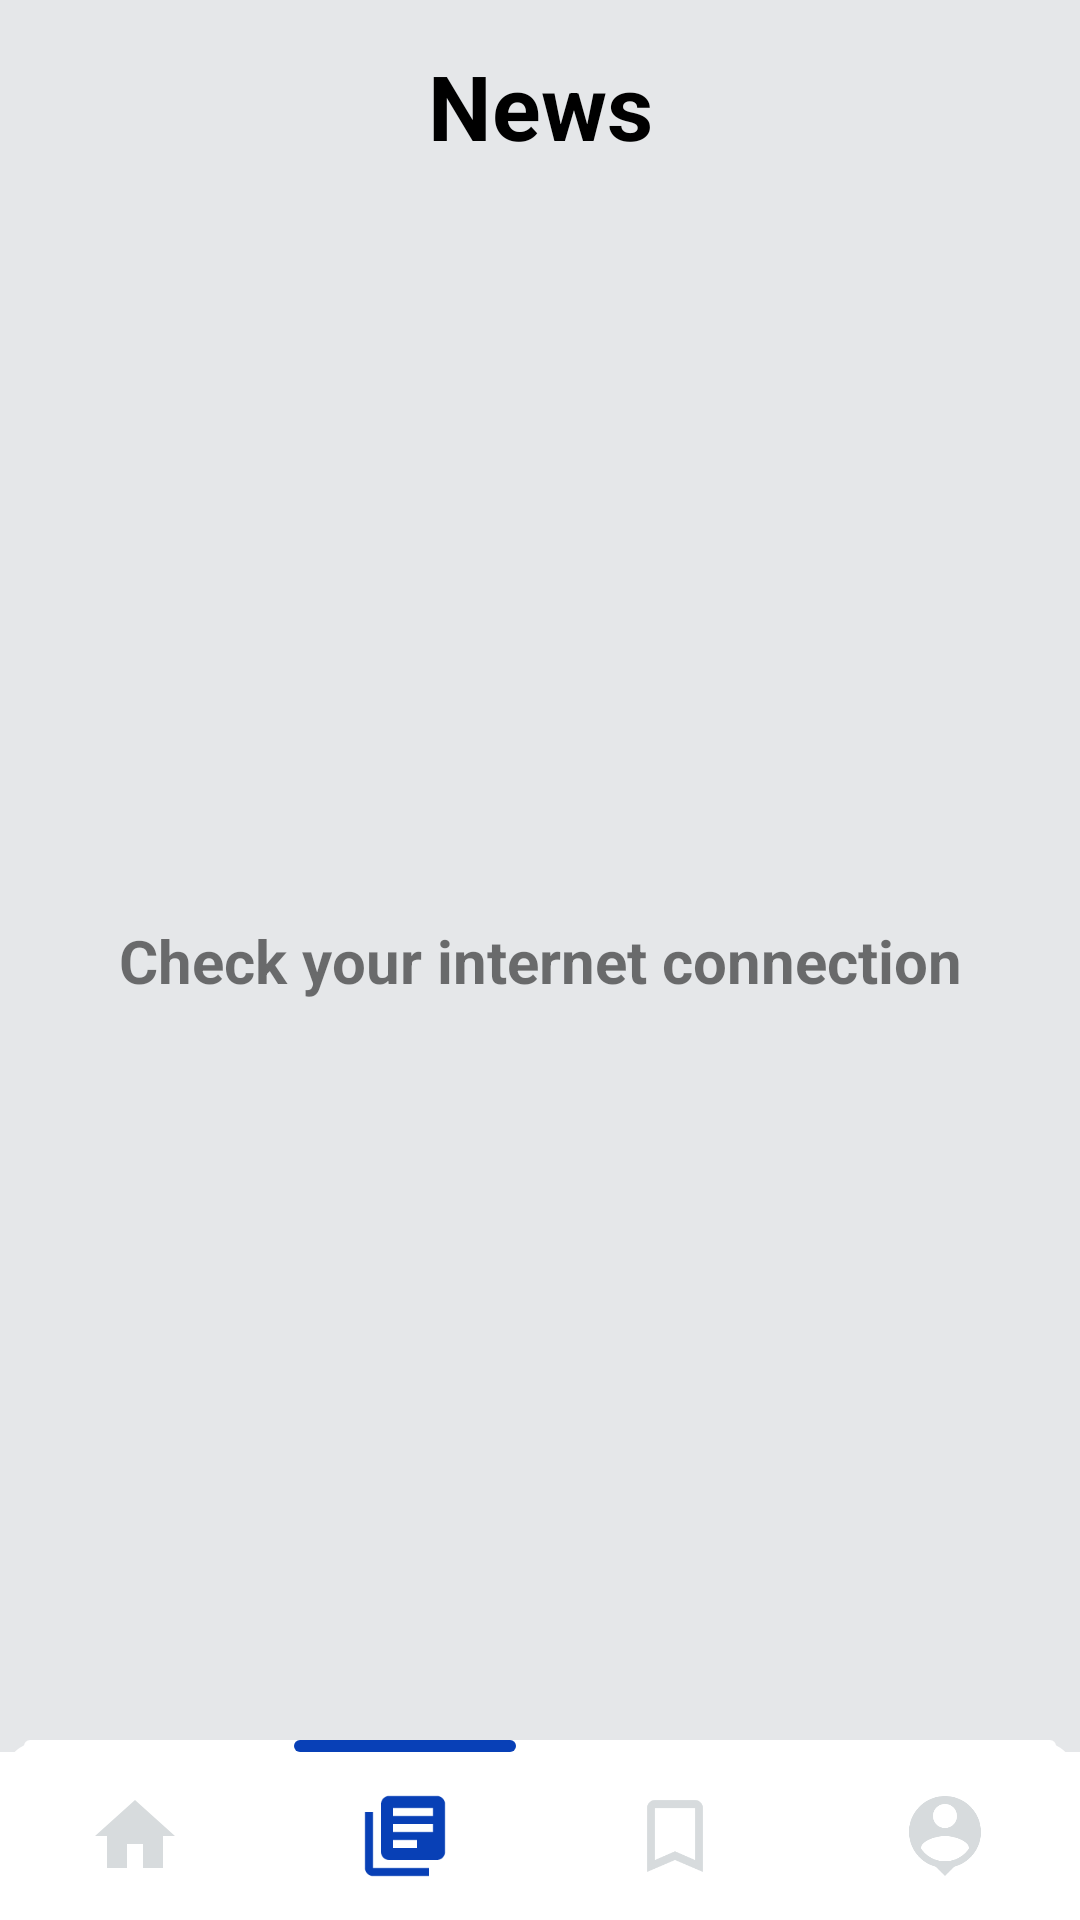

Locate icon controls on the screen. Image size 1080 × 1920, boxes as (x1, y1, x2, y2).
home: (96, 1801, 174, 1868)
news: (364, 1795, 446, 1877)
person: (909, 1796, 981, 1875)
